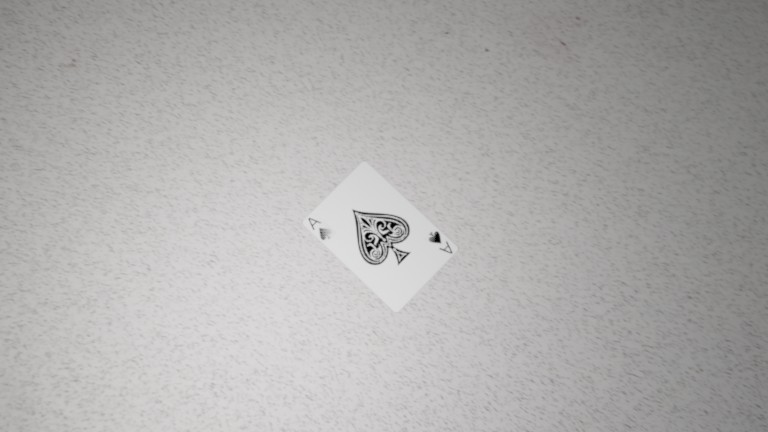ace_of_spades: (303, 212, 337, 245), (424, 227, 458, 260)
